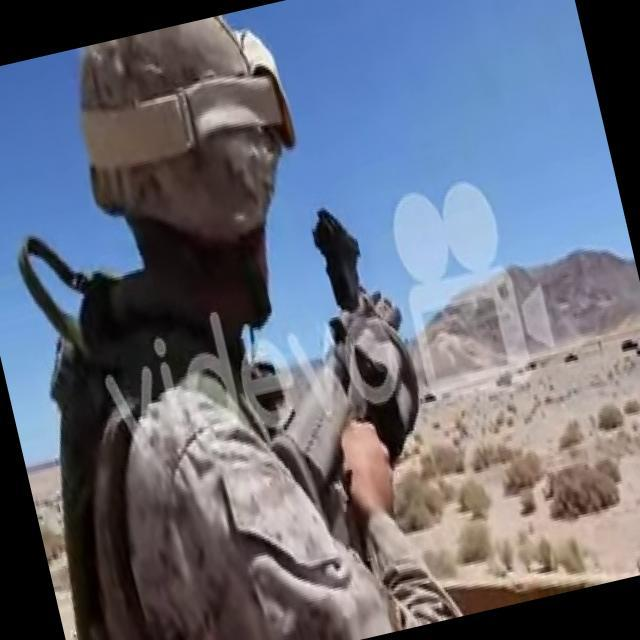rocket: (226, 201, 446, 530)
